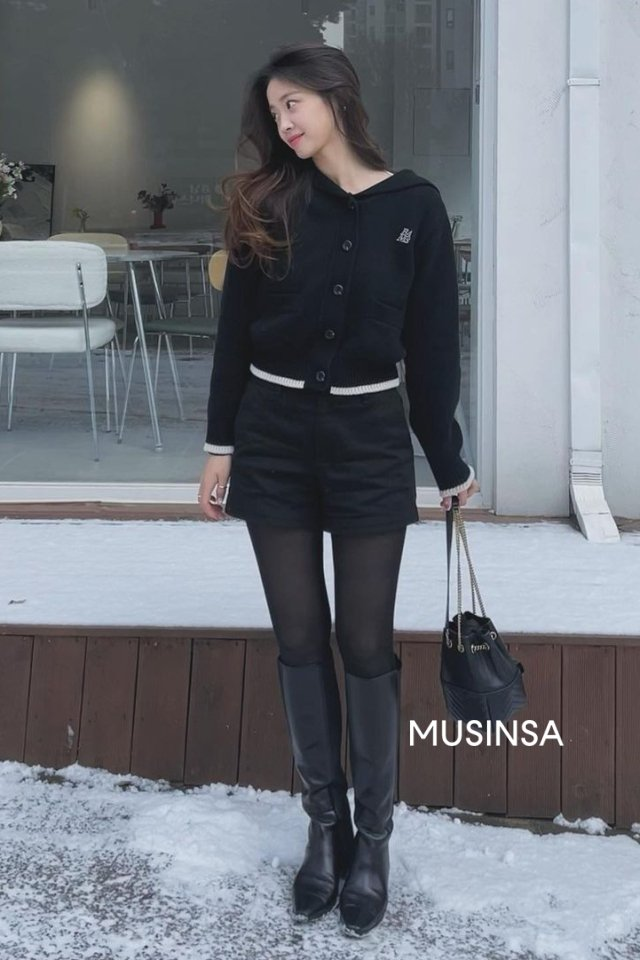Boots: (262, 631, 415, 947)
Handbag: (430, 482, 539, 723)
Skirt: (226, 368, 430, 543)
Top: (200, 149, 475, 412)
